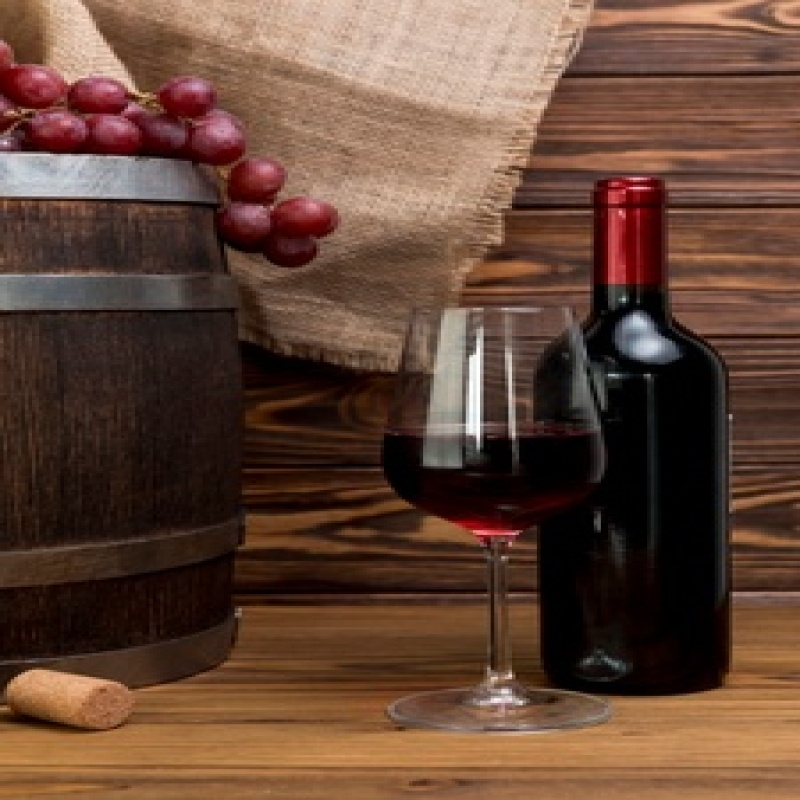wine: (549, 186, 731, 674)
